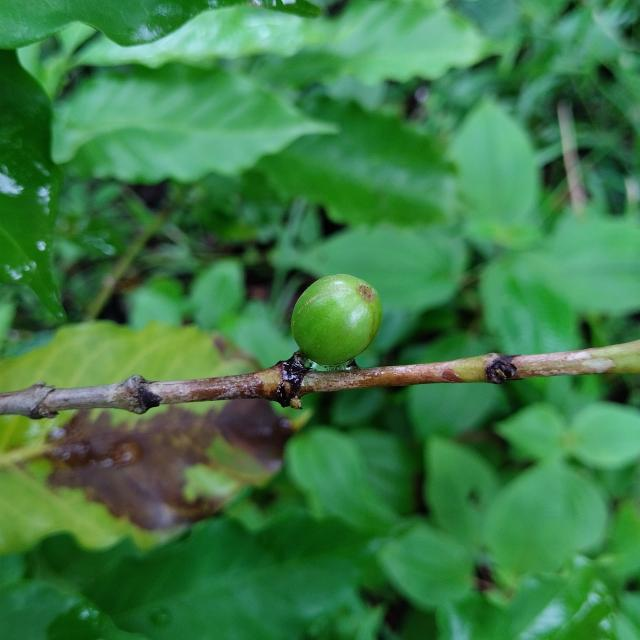green: (291, 274, 383, 365)
